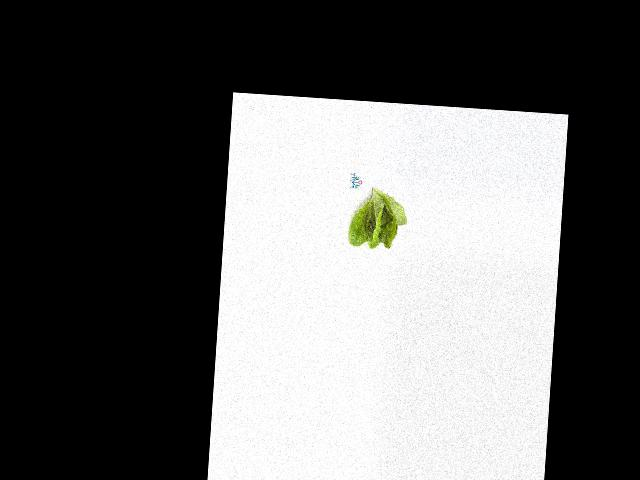lettuce: (348, 185, 410, 252)
